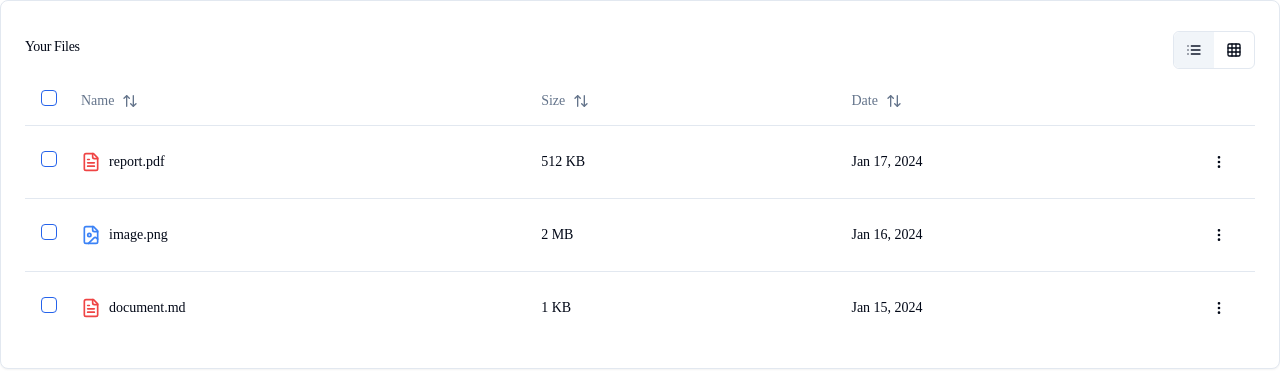
it: FileList › should handle select all
The image size is (1280, 386).
What coordinates should you click on to do the following:
click the 1st checkbox
I would click on:
 (49, 98)
Its box is [41,90,57,106].
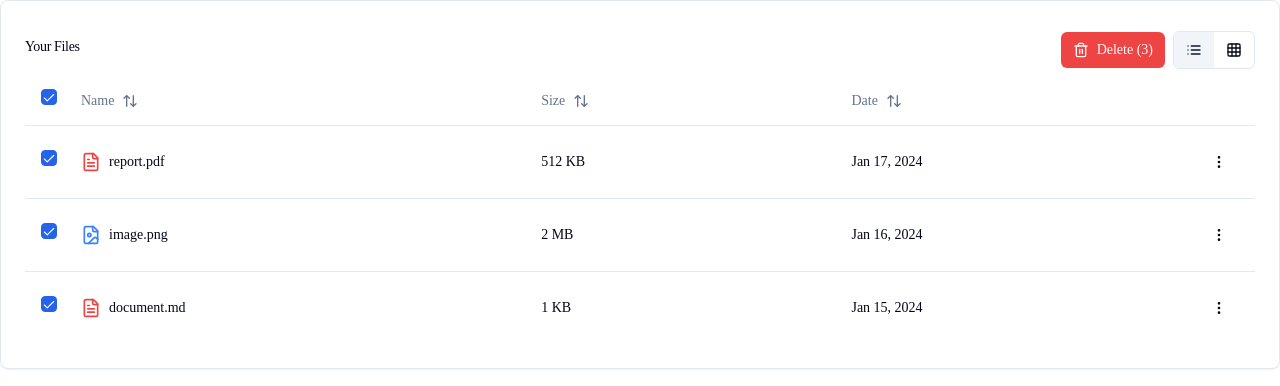
Expected: the 1st checkbox is checked, [41,89,57,105]
Expected: the checkbox next to "report.pdf" is checked, [41,150,57,166]
Expected: the checkbox next to "image.png" is checked, [41,223,57,239]
